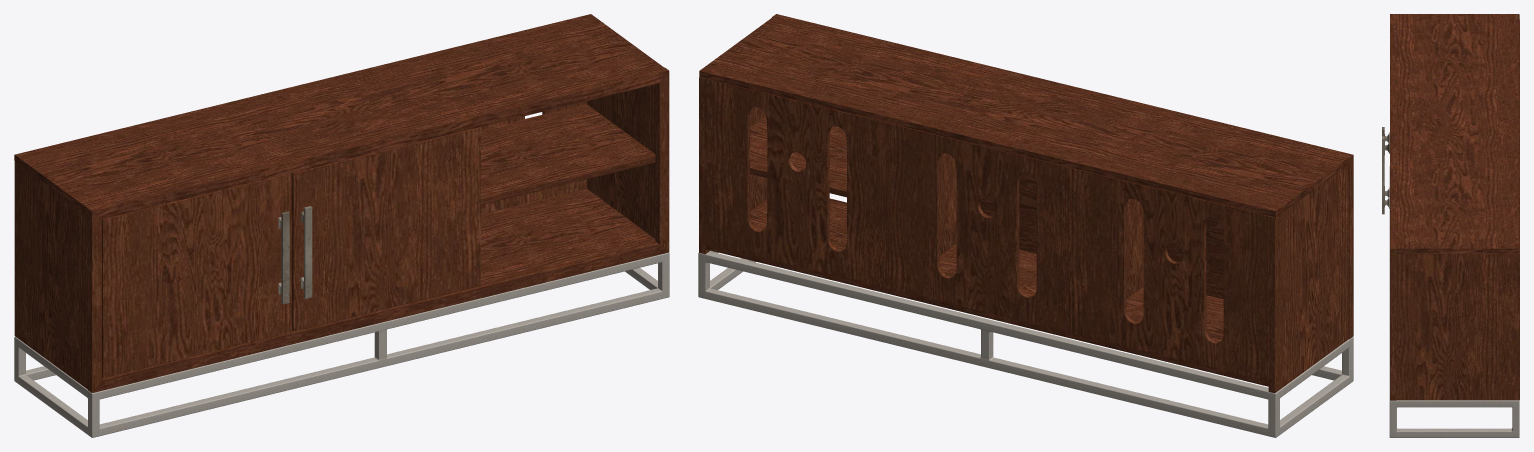
File: abo-B074KMW499.glb
3 views of the same model, side by side, from view 1: azimuth 30°, elevation 25°; view 2: azimuth 150°, elevation 25°; view 3: azimuth 270°, elevation 25° (orthographic). The views are drawn at different scales.
Size of the model in its own units: 1.54 by 0.578 by 0.382.
Materials: 1 (1 with a texture image).
